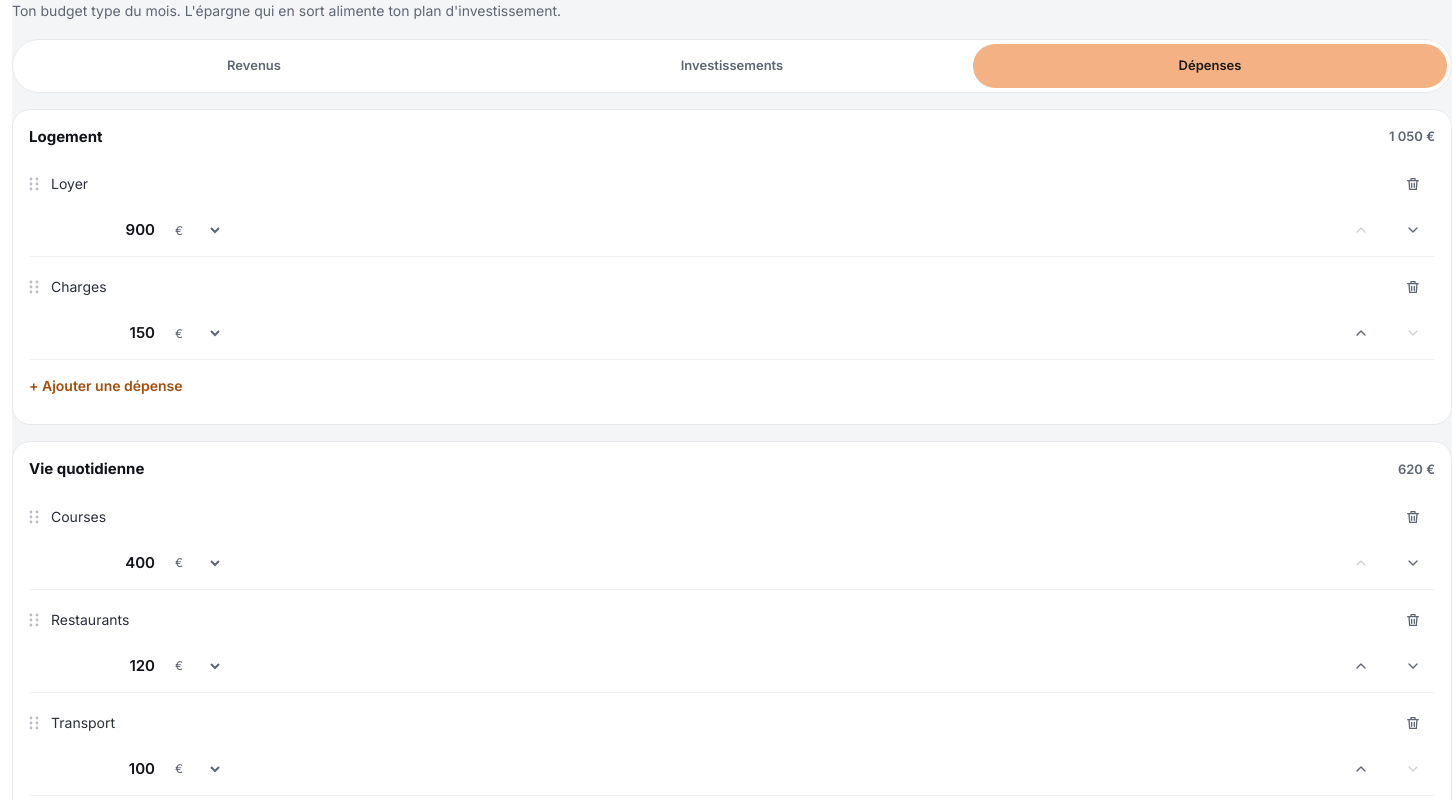
Scenario: BudgetView — enregistrement › enregistre au blur et indique « Enregistré »
Replace the text in the field named "Montant Courses" with "600" at coordinates (103, 563), box [47,541,159,585]
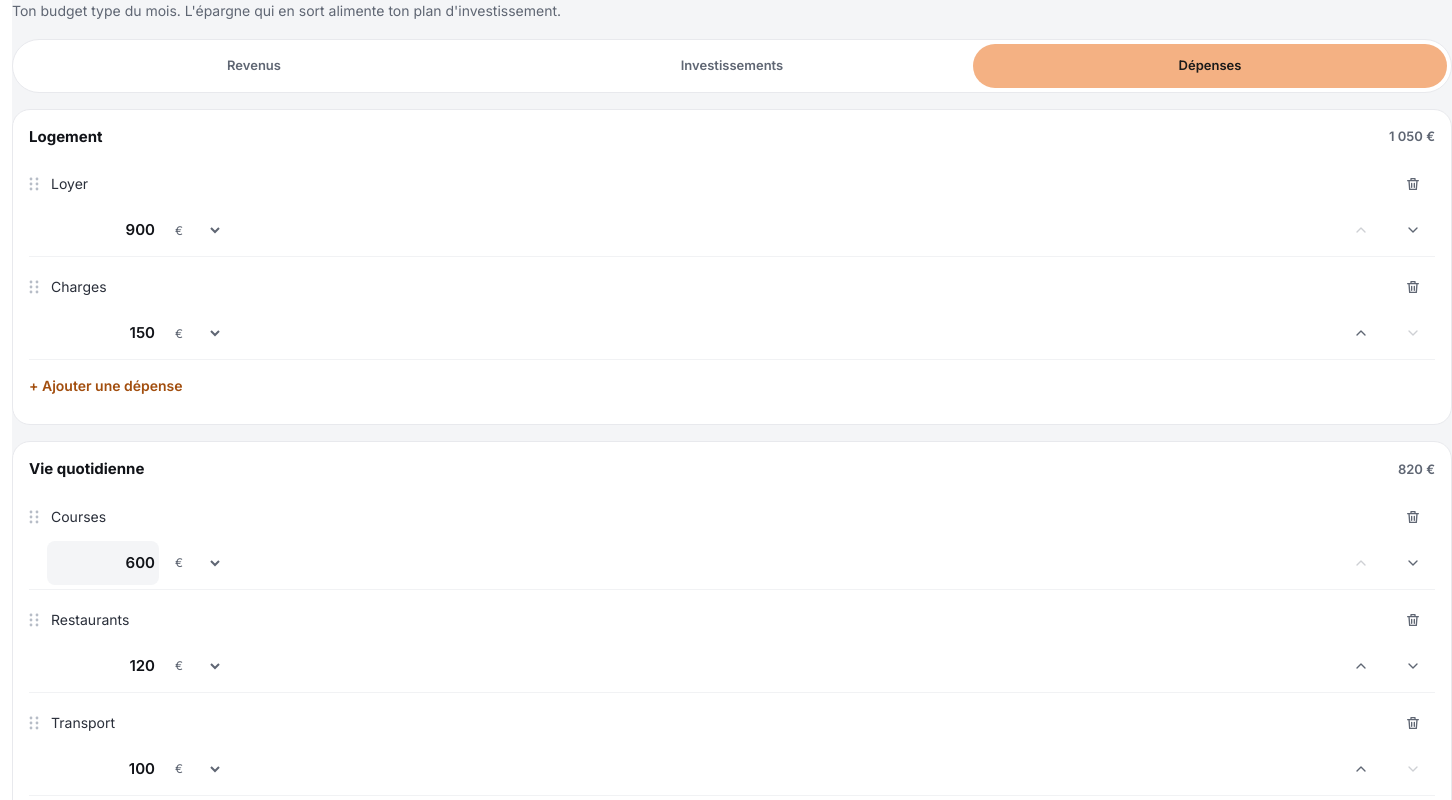
Press Tab
(page scrolled)
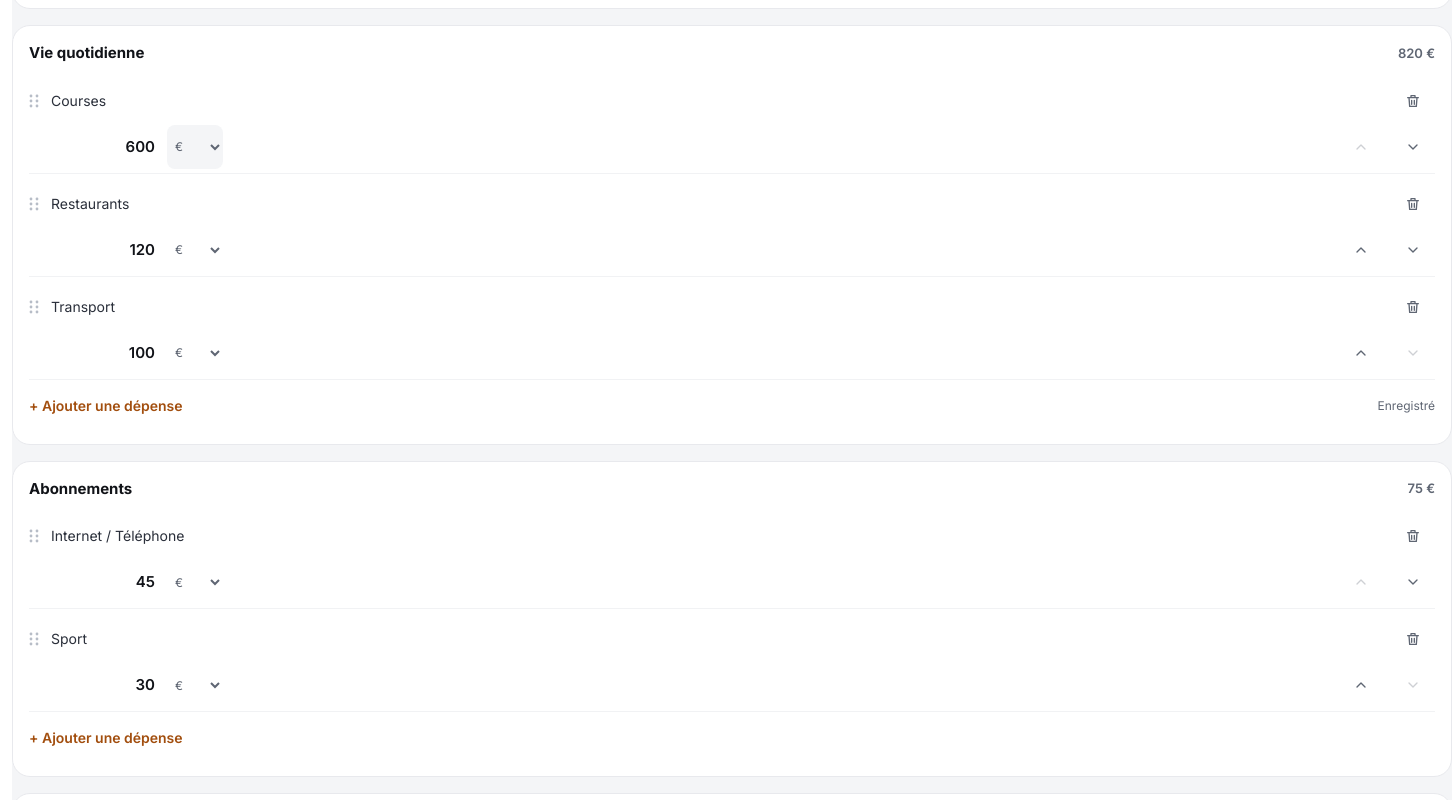
Result: the text "Enregistré" is shown at [1378,398,1435,414]
